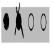correct: (2, 10, 10, 32)
not correct: (14, 1, 24, 40)
